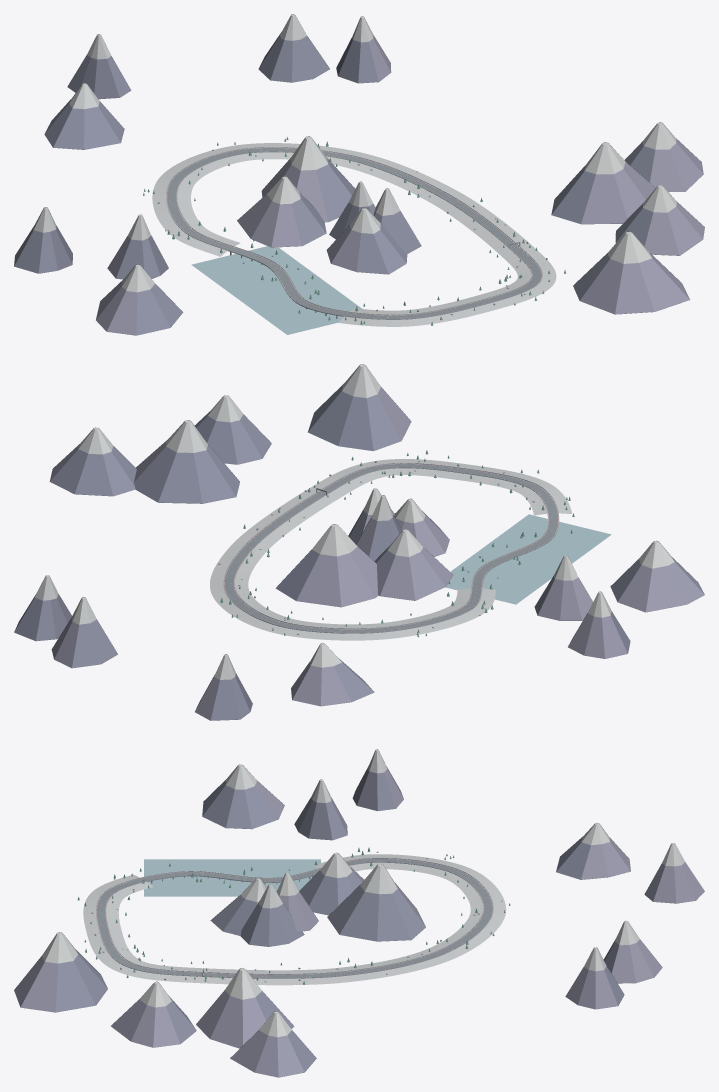
Rendered from track_4.glb.
3 renders of one model, top to bottom at view 1: azimuth 30°, elevation 25°; view 2: azimuth 150°, elevation 25°; view 3: azimuth 270°, elevation 25°, orthographic. The views are drawn at different scales.
Visible parts, largest first — view 1: chunk_1, chunk_3, chunk_0, chunk_2, chunk_5, chunk_99, chunk_4; view 2: chunk_1, chunk_0, chunk_3, chunk_2, chunk_5, chunk_99, chunk_4; view 3: chunk_1, chunk_0, chunk_3, chunk_5, chunk_2, chunk_99, chunk_4.
Part boxes in pixels (x1,y1,x2,y2): chunk_1: [67, 14, 405, 222]; chunk_3: [96, 176, 407, 335]; chunk_0: [373, 122, 703, 253]; chunk_2: [14, 83, 238, 279]; chunk_5: [489, 185, 704, 314]; chunk_99: [191, 246, 361, 334]; chunk_4: [347, 277, 549, 326]; chunk_1: [14, 524, 378, 720]; chunk_0: [49, 420, 394, 574]; chunk_3: [356, 495, 704, 612]; chunk_2: [291, 555, 630, 706]; chunk_5: [194, 364, 411, 499]; chunk_99: [445, 514, 611, 604]; chunk_4: [388, 450, 570, 511]; chunk_1: [327, 843, 704, 1009]; chunk_0: [196, 884, 403, 1077]; chunk_3: [127, 764, 363, 935]; chunk_5: [14, 932, 204, 1047]; chunk_2: [294, 749, 630, 893]; chunk_99: [144, 859, 320, 896]; chunk_4: [77, 874, 149, 966].
Size of what is drawn, in the model's own units: 1367 by 139 by 1407.
